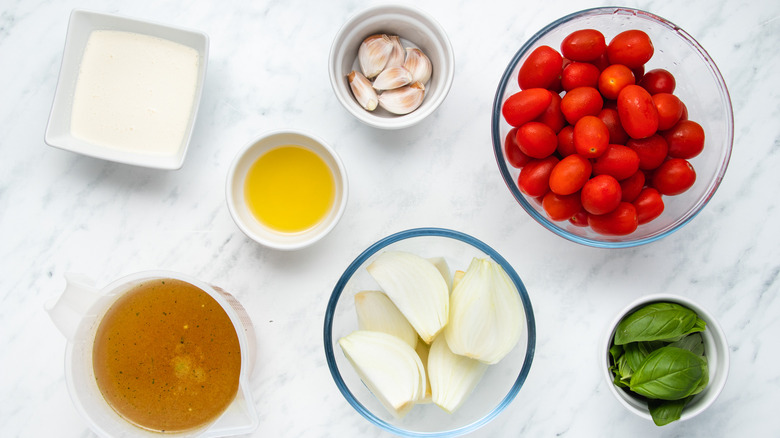Spinach: (608, 299, 715, 430)
Tomato: (615, 79, 661, 141), (516, 45, 566, 94), (495, 86, 555, 125), (557, 81, 607, 127), (507, 118, 561, 160), (587, 140, 641, 181), (646, 153, 698, 194), (607, 26, 655, 70), (569, 114, 613, 160), (579, 170, 621, 218), (664, 115, 706, 163), (516, 153, 555, 202), (595, 61, 637, 105), (549, 152, 589, 197), (559, 28, 606, 64), (626, 183, 668, 223)
